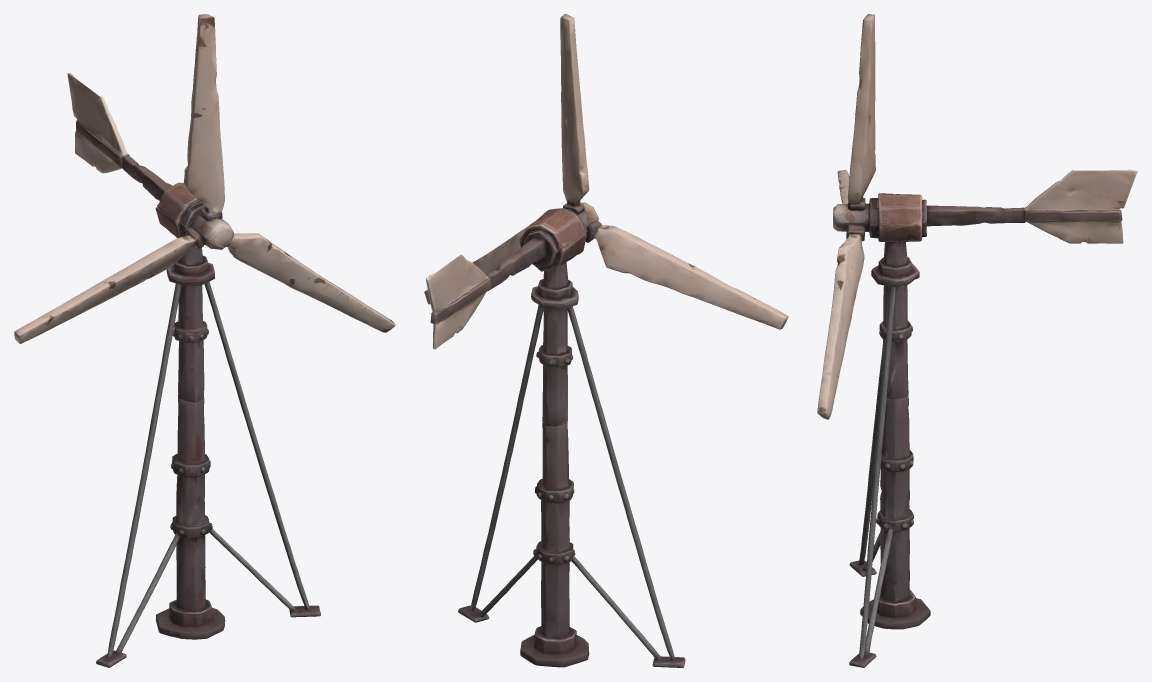
The model's file is wind_turbine_malyy_gorizontalnyy_idle.glb.
The picture shows the model from 3 angles, left to right: view 1: azimuth 30°, elevation 25°; view 2: azimuth 150°, elevation 25°; view 3: azimuth 270°, elevation 25°; orthographic projection. The views are drawn at different scales.
Parts seen in each view (by area): view 1: tripo_node_c0fd83ce-2e2e-464e-aeec-8415917bdb0d; view 2: tripo_node_c0fd83ce-2e2e-464e-aeec-8415917bdb0d; view 3: tripo_node_c0fd83ce-2e2e-464e-aeec-8415917bdb0d.
Part boxes in pixels (x1,y1,x2,y2): tripo_node_c0fd83ce-2e2e-464e-aeec-8415917bdb0d: [14, 14, 395, 667]; tripo_node_c0fd83ce-2e2e-464e-aeec-8415917bdb0d: [424, 14, 788, 667]; tripo_node_c0fd83ce-2e2e-464e-aeec-8415917bdb0d: [817, 14, 1137, 667].
Bounding box in the file's own units: 1.86 × 3 × 1.45.
Materials: 1 (1 with a texture image).
